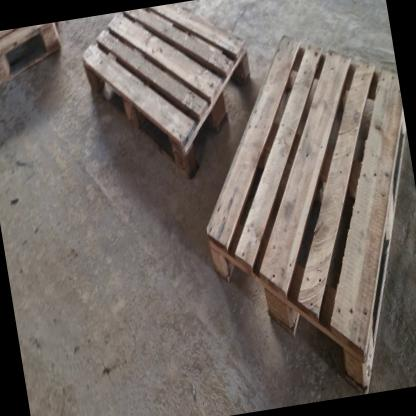BoxFace: (206, 33, 407, 394), (81, 2, 252, 180), (0, 22, 62, 88)
